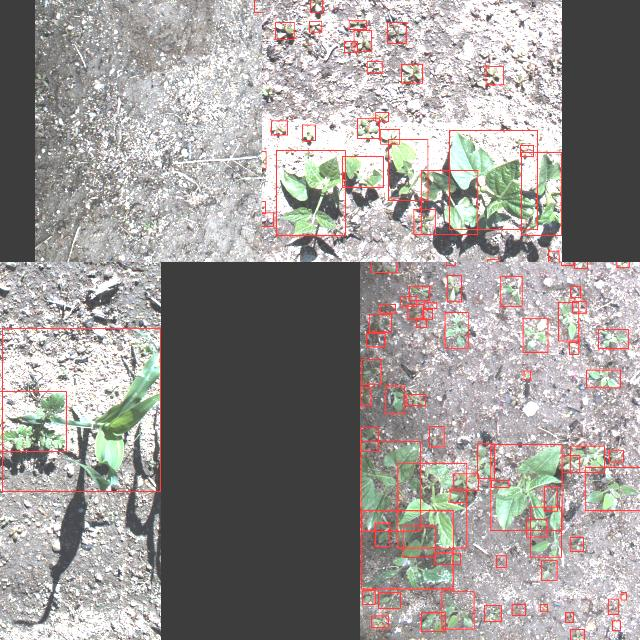crop: (1, 328, 160, 492), (449, 130, 537, 230), (491, 444, 562, 530), (276, 150, 344, 236), (398, 464, 467, 548), (360, 441, 420, 531), (420, 170, 478, 234), (522, 152, 562, 235), (388, 140, 428, 200), (342, 156, 383, 188)
weed: (361, 511, 453, 589), (0, 392, 66, 452), (585, 467, 640, 511), (530, 507, 562, 557), (442, 592, 474, 628), (403, 525, 435, 557), (522, 318, 548, 352), (570, 446, 604, 472), (444, 312, 468, 348), (559, 303, 579, 342), (501, 276, 522, 306), (586, 370, 620, 388), (598, 329, 628, 348), (478, 444, 494, 478), (386, 386, 404, 414), (414, 210, 434, 234), (361, 360, 381, 384), (421, 612, 445, 632), (357, 118, 379, 138), (360, 427, 378, 451), (388, 22, 407, 44), (446, 276, 462, 302), (454, 474, 478, 491), (402, 64, 422, 84), (369, 314, 391, 332), (526, 519, 548, 537), (374, 523, 390, 547), (354, 30, 372, 51), (544, 486, 558, 512), (274, 22, 294, 40), (378, 592, 400, 608), (428, 427, 444, 448), (486, 66, 504, 84), (562, 456, 580, 472), (484, 605, 502, 621), (371, 262, 397, 273), (380, 130, 400, 144), (409, 286, 429, 300), (542, 560, 556, 580), (434, 554, 460, 564), (407, 304, 423, 320), (366, 333, 384, 347), (406, 394, 426, 406), (271, 121, 287, 135), (370, 616, 388, 628), (449, 490, 466, 502), (570, 537, 584, 551), (366, 61, 382, 73), (302, 125, 314, 141), (608, 450, 624, 462), (348, 20, 366, 30), (360, 388, 370, 406), (308, 20, 322, 32), (572, 301, 586, 313), (512, 604, 526, 616), (362, 590, 374, 604), (400, 296, 416, 306), (379, 304, 395, 314), (309, 0, 322, 12), (262, 212, 273, 226), (570, 629, 584, 640), (344, 42, 358, 52), (520, 146, 534, 156), (608, 600, 618, 614), (492, 480, 508, 488), (376, 112, 388, 122), (549, 250, 559, 262), (571, 286, 581, 298), (569, 342, 579, 354), (496, 556, 506, 568), (422, 310, 432, 320), (416, 318, 426, 328), (566, 612, 574, 622), (612, 620, 620, 630), (574, 262, 587, 268), (424, 303, 436, 309), (262, 151, 266, 168), (540, 604, 548, 612), (617, 262, 629, 267), (524, 370, 530, 380), (561, 262, 573, 266), (262, 202, 265, 214), (487, 259, 499, 262), (622, 592, 626, 600), (445, 262, 454, 265)
